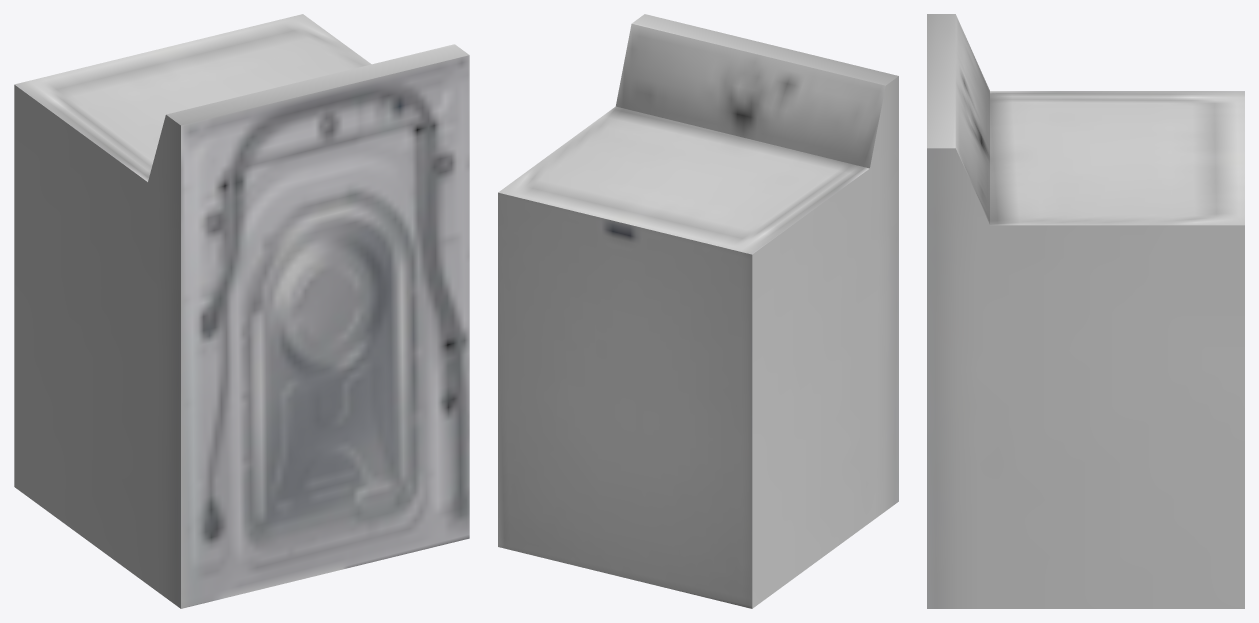
Rendered from dryer.glb.
3 renders of one model, left to right at view 1: azimuth 30°, elevation 25°; view 2: azimuth 150°, elevation 25°; view 3: azimuth 270°, elevation 25°, orthographic. The views are drawn at different scales.
Parts seen in each view (by area): view 1: dryer; view 2: dryer; view 3: dryer.
Boxes of the visible parts, bbox=[...] form: dryer: bbox=[14, 14, 469, 608]; dryer: bbox=[498, 14, 898, 608]; dryer: bbox=[927, 14, 1244, 608].
Size of the model in its own units: 2.41 by 3.85 by 2.41.
1 material, 1 textured.
